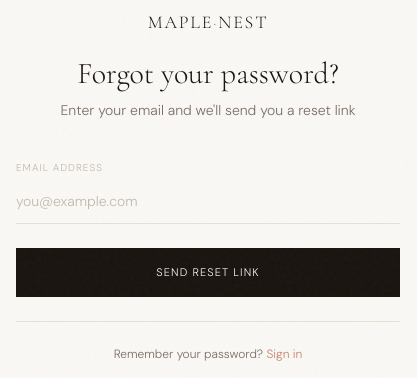
ForgotPasswordPage — successful send › shows success state after email is sent
Type "me@example.com" into the field with placeholder "you@example.com" at (208, 202), box left=16, top=179, right=400, bottom=224
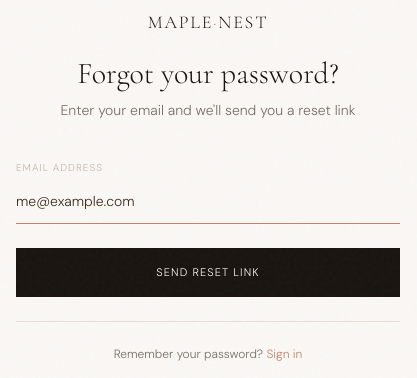
Click the button "Send Reset Link" at (208, 273), box left=16, top=248, right=400, bottom=297
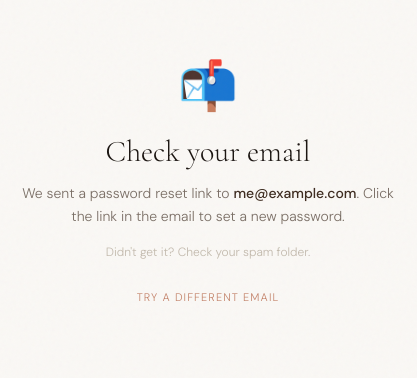
Expected: the heading "Check your email" is shown, left=106, top=133, right=310, bottom=170
